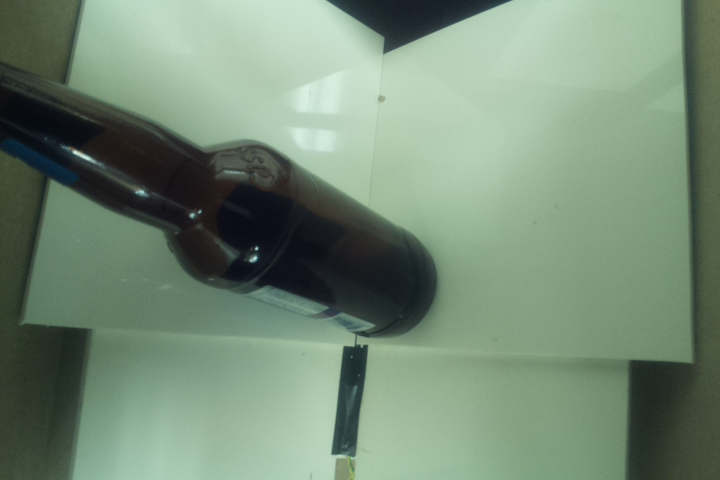makju: (1, 57, 440, 342)
